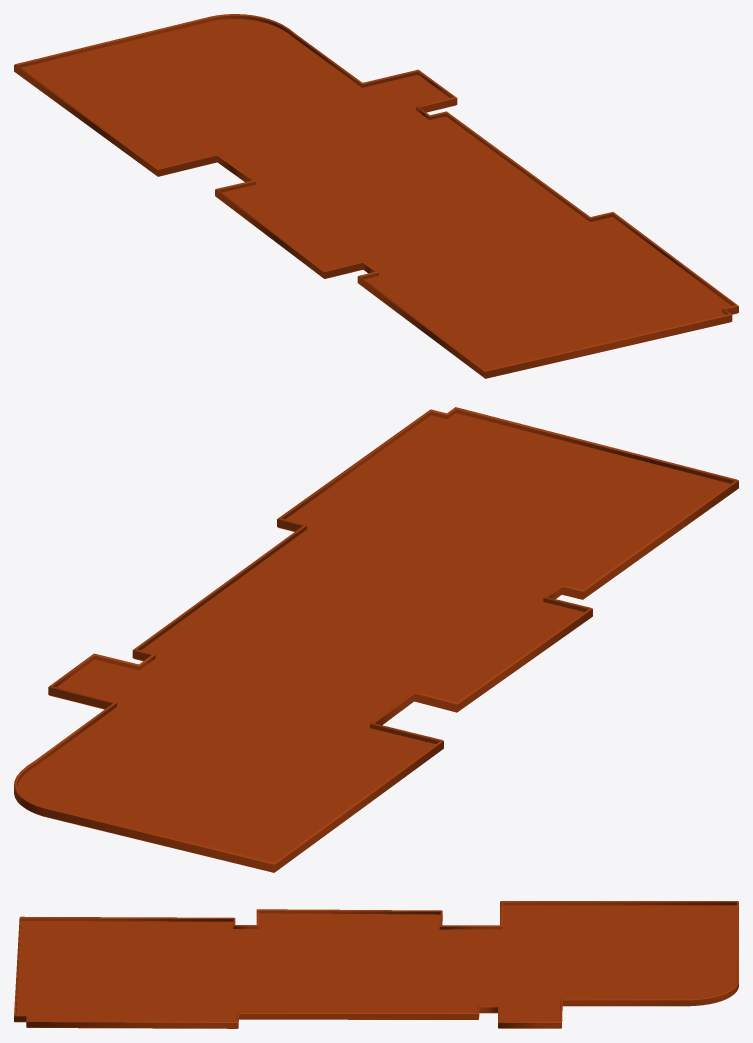
The model's file is kantyna.obj.
3 renders of one model, top to bottom at view 1: azimuth 30°, elevation 25°; view 2: azimuth 150°, elevation 25°; view 3: azimuth 270°, elevation 25°, orthographic. The views are drawn at different scales.
Visible parts, largest first — view 1: BezierCurve_CUBezierCurve.001, BezierCurve.001_BezierCurve.002; view 2: BezierCurve_CUBezierCurve.001, BezierCurve.001_BezierCurve.002; view 3: BezierCurve_CUBezierCurve.001, BezierCurve.001_BezierCurve.002.
Boxes of the visible parts, x1,y1,x2,y2 form: BezierCurve_CUBezierCurve.001: (21, 19, 731, 369); BezierCurve.001_BezierCurve.002: (14, 14, 738, 378); BezierCurve_CUBezierCurve.001: (17, 413, 730, 862); BezierCurve.001_BezierCurve.002: (14, 407, 738, 872); BezierCurve_CUBezierCurve.001: (16, 905, 736, 1021); BezierCurve.001_BezierCurve.002: (14, 901, 738, 1028).
Bounding box in the file's own units: 3.96 × 0.11 × 9.99.
